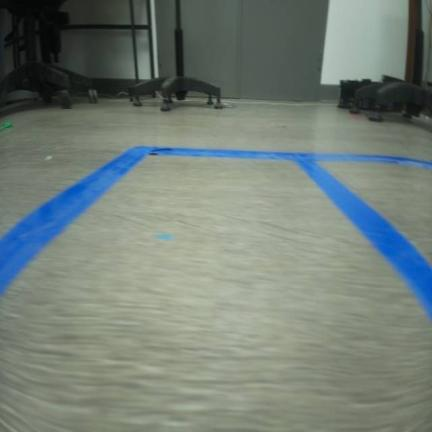place: (0, 143, 431, 431)
